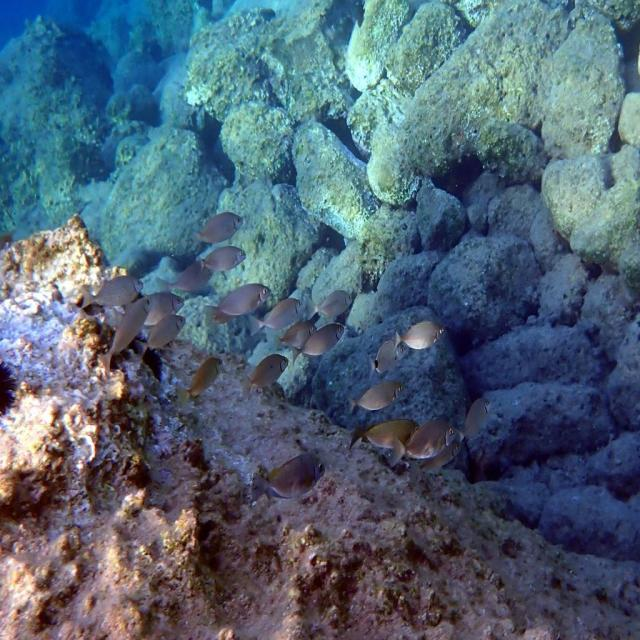Sokar Baligi: (248, 437, 334, 511), (190, 201, 248, 249), (393, 311, 450, 358)
